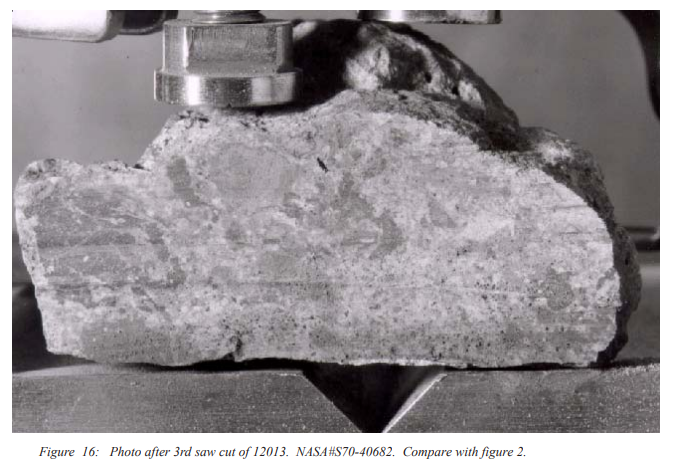Breccia: (74, 77, 607, 362)
